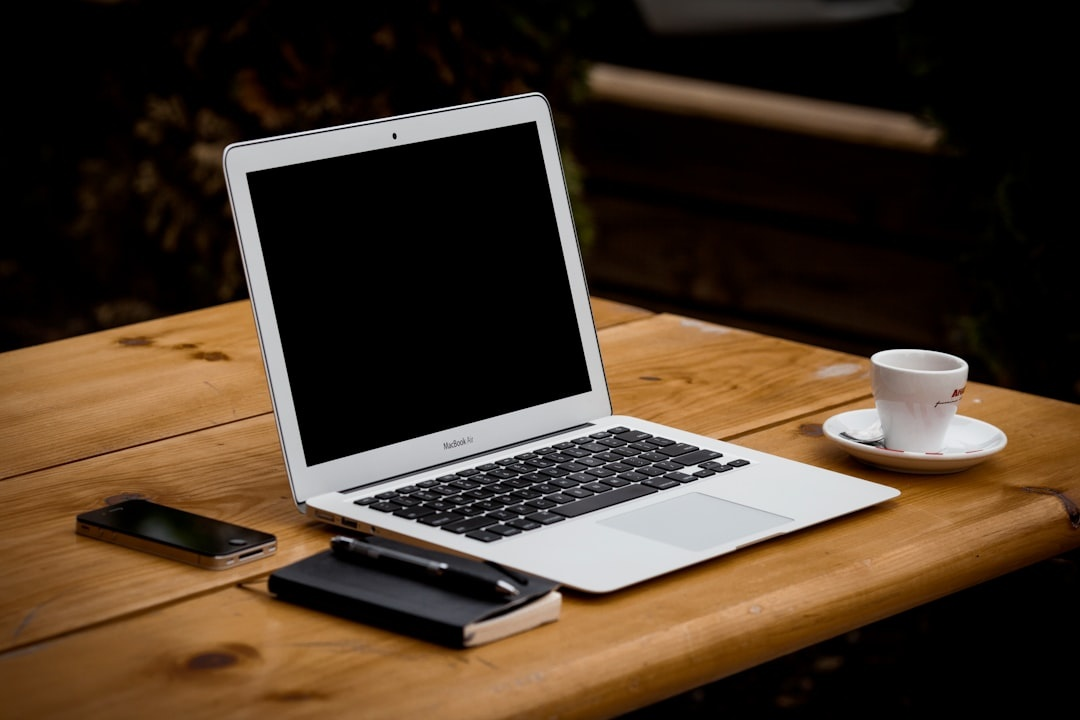laptop: (168, 60, 924, 615)
